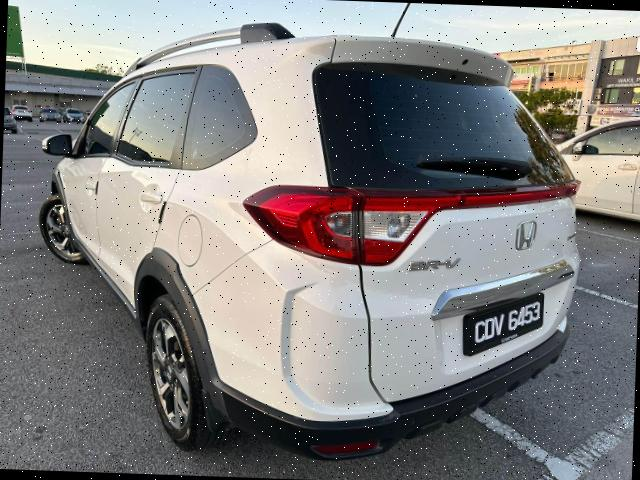License_Plate: (464, 288, 547, 357)
